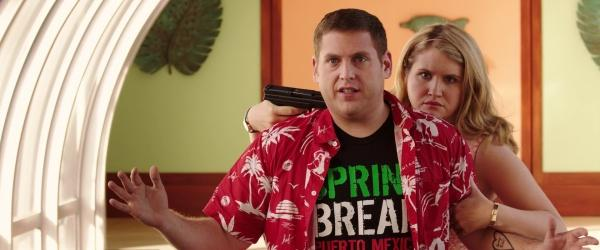Gun: (263, 83, 328, 112)
